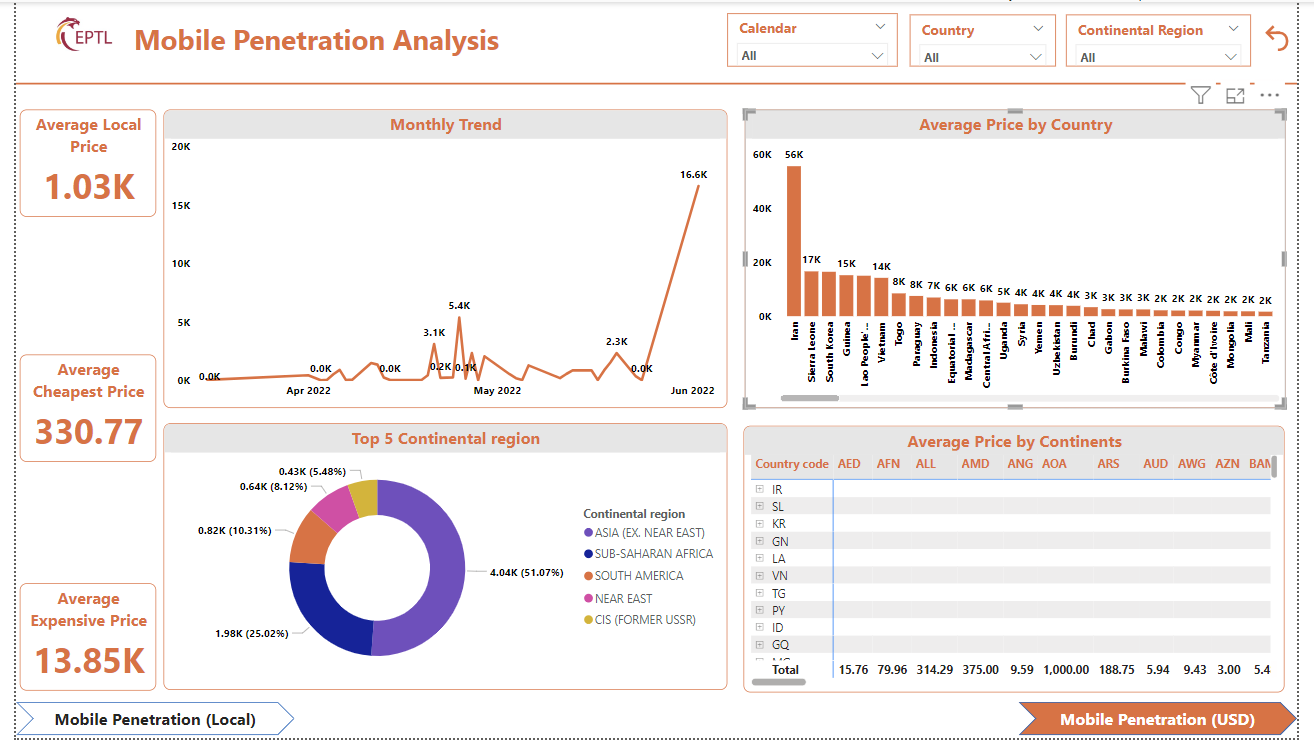

The dashboard page shown, as its layout file describes it:
{"tool":"powerbi","page":{"name":"Mobile Penetration (Local)","canvas":[1480,850],"ordinal":0},"visuals":[{"type":"slicer","fields":{"Values":["2022 1GB Mobile data cost.Sample date.Variation.Date Hierarchy.Year","2022 1GB Mobile data cost.Sample date.Variation.Date Hierarchy.Quarter","2022 1GB Mobile data cost.Sample date.Variation.Date Hierarchy.Month","2022 1GB Mobile data cost.Sample date.Variation.Date Hierarchy.Day"]},"box":[821.7,13.3,196.7,61.7],"z":0},{"type":"slicer","fields":{"Values":["2022 1GB Mobile data cost.Name"]},"box":[1031.5,13.9,168.6,60.3],"z":1000},{"type":"slicer","fields":{"Values":["2022 1GB Mobile data cost.Continental region"]},"box":[1212.5,13.9,213.4,60.3],"z":2000},{"type":"columnChart","title":"Average Price by Country","fields":{"Y":["All Measures.Average Price"],"Category":["2022 1GB Mobile data cost.Name"]},"box":[841.3,123.7,624.8,344.9],"z":3000},{"type":"shape","box":[0,88.2,1480,12.4],"z":4000},{"type":"lineChart","title":"Monthly Trend","fields":{"Y":["All Measures.Average Price"],"Category":["2022 1GB Mobile data cost.Sample date"]},"box":[170.1,123.7,651.1,344.9],"z":5000},{"type":"textbox","box":[131.5,15.5,470.1,58.8],"z":6000},{"type":"image","box":[0,0,157.7,74.2],"z":7000},{"type":"donutChart","title":"Top 5 Continental region","fields":{"Y":["All Measures.Average Price"],"Category":["2022 1GB Mobile data cost.Continental region"]},"box":[170.1,487.1,651.1,307.8],"z":8000},{"type":"pivotTable","title":"Average Price by Continents","fields":{"Values":["All Measures.Average Price"],"Rows":["2022 1GB Mobile data cost.Country code","2022 1GB Mobile data cost.Continental region","2022 1GB Mobile data cost.Sample date"],"Columns":["2022 1GB Mobile data cost.Currency"]},"box":[839.7,488.7,624.8,307.8],"z":9000},{"type":"card","title":"Average Local Price","fields":{"Values":["All Measures.Average Price"]},"box":[4.6,123.7,157.7,123.7],"z":10000},{"type":"card","title":"Average Cheapest Price","fields":{"Values":["All Measures.Cheapest Price"]},"box":[4.6,406.7,157.7,123.7],"z":11000},{"type":"card","title":"Average Expensive Price","fields":{"Values":["All Measures.Most Expensive"]},"box":[4.6,671.2,157.7,123.7],"z":12000},{"type":"shape","box":[1158.3,808.3,321.7,38.3],"z":13000},{"type":"shape","box":[0,808.3,321.7,38.3],"z":14000},{"type":"actionButton","box":[1436.7,21.7,43.3,40],"z":15000}]}

Visuals, with their boxes in screenshot pixels (x1, y1, x2, y2), scaled from the page's 1480x850 canvas onto the 1314x745 screenshot:
slicer - 2022 1GB Mobile data cost.Sample date.Variation.Date Hierarchy.Year x 2022 1GB Mobile data cost.Sample date.Variation.Date Hierarchy.Quarter: (left=730, top=12, right=904, bottom=66)
slicer - 2022 1GB Mobile data cost.Name: (left=916, top=12, right=1065, bottom=65)
slicer - 2022 1GB Mobile data cost.Continental region: (left=1077, top=12, right=1266, bottom=65)
"Average Price by Country" columnChart: (left=747, top=108, right=1302, bottom=411)
shape: (left=0, top=77, right=1313, bottom=88)
"Monthly Trend" lineChart: (left=151, top=108, right=729, bottom=411)
textbox: (left=117, top=14, right=534, bottom=65)
image: (left=0, top=0, right=140, bottom=65)
"Top 5 Continental region" donutChart: (left=151, top=427, right=729, bottom=697)
"Average Price by Continents" pivotTable: (left=746, top=428, right=1300, bottom=698)
"Average Local Price" card: (left=4, top=108, right=144, bottom=217)
"Average Cheapest Price" card: (left=4, top=356, right=144, bottom=465)
"Average Expensive Price" card: (left=4, top=588, right=144, bottom=697)
shape: (left=1028, top=708, right=1313, bottom=742)
shape: (left=0, top=708, right=286, bottom=742)
actionButton: (left=1276, top=19, right=1313, bottom=54)
